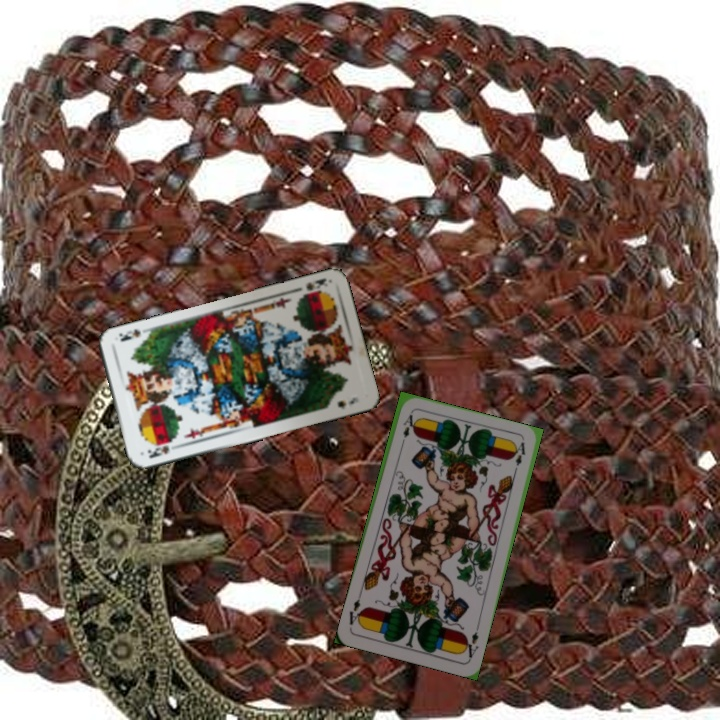EA: (459, 628, 481, 662), (397, 410, 415, 449)
SK: (144, 441, 172, 461), (302, 274, 330, 293)
